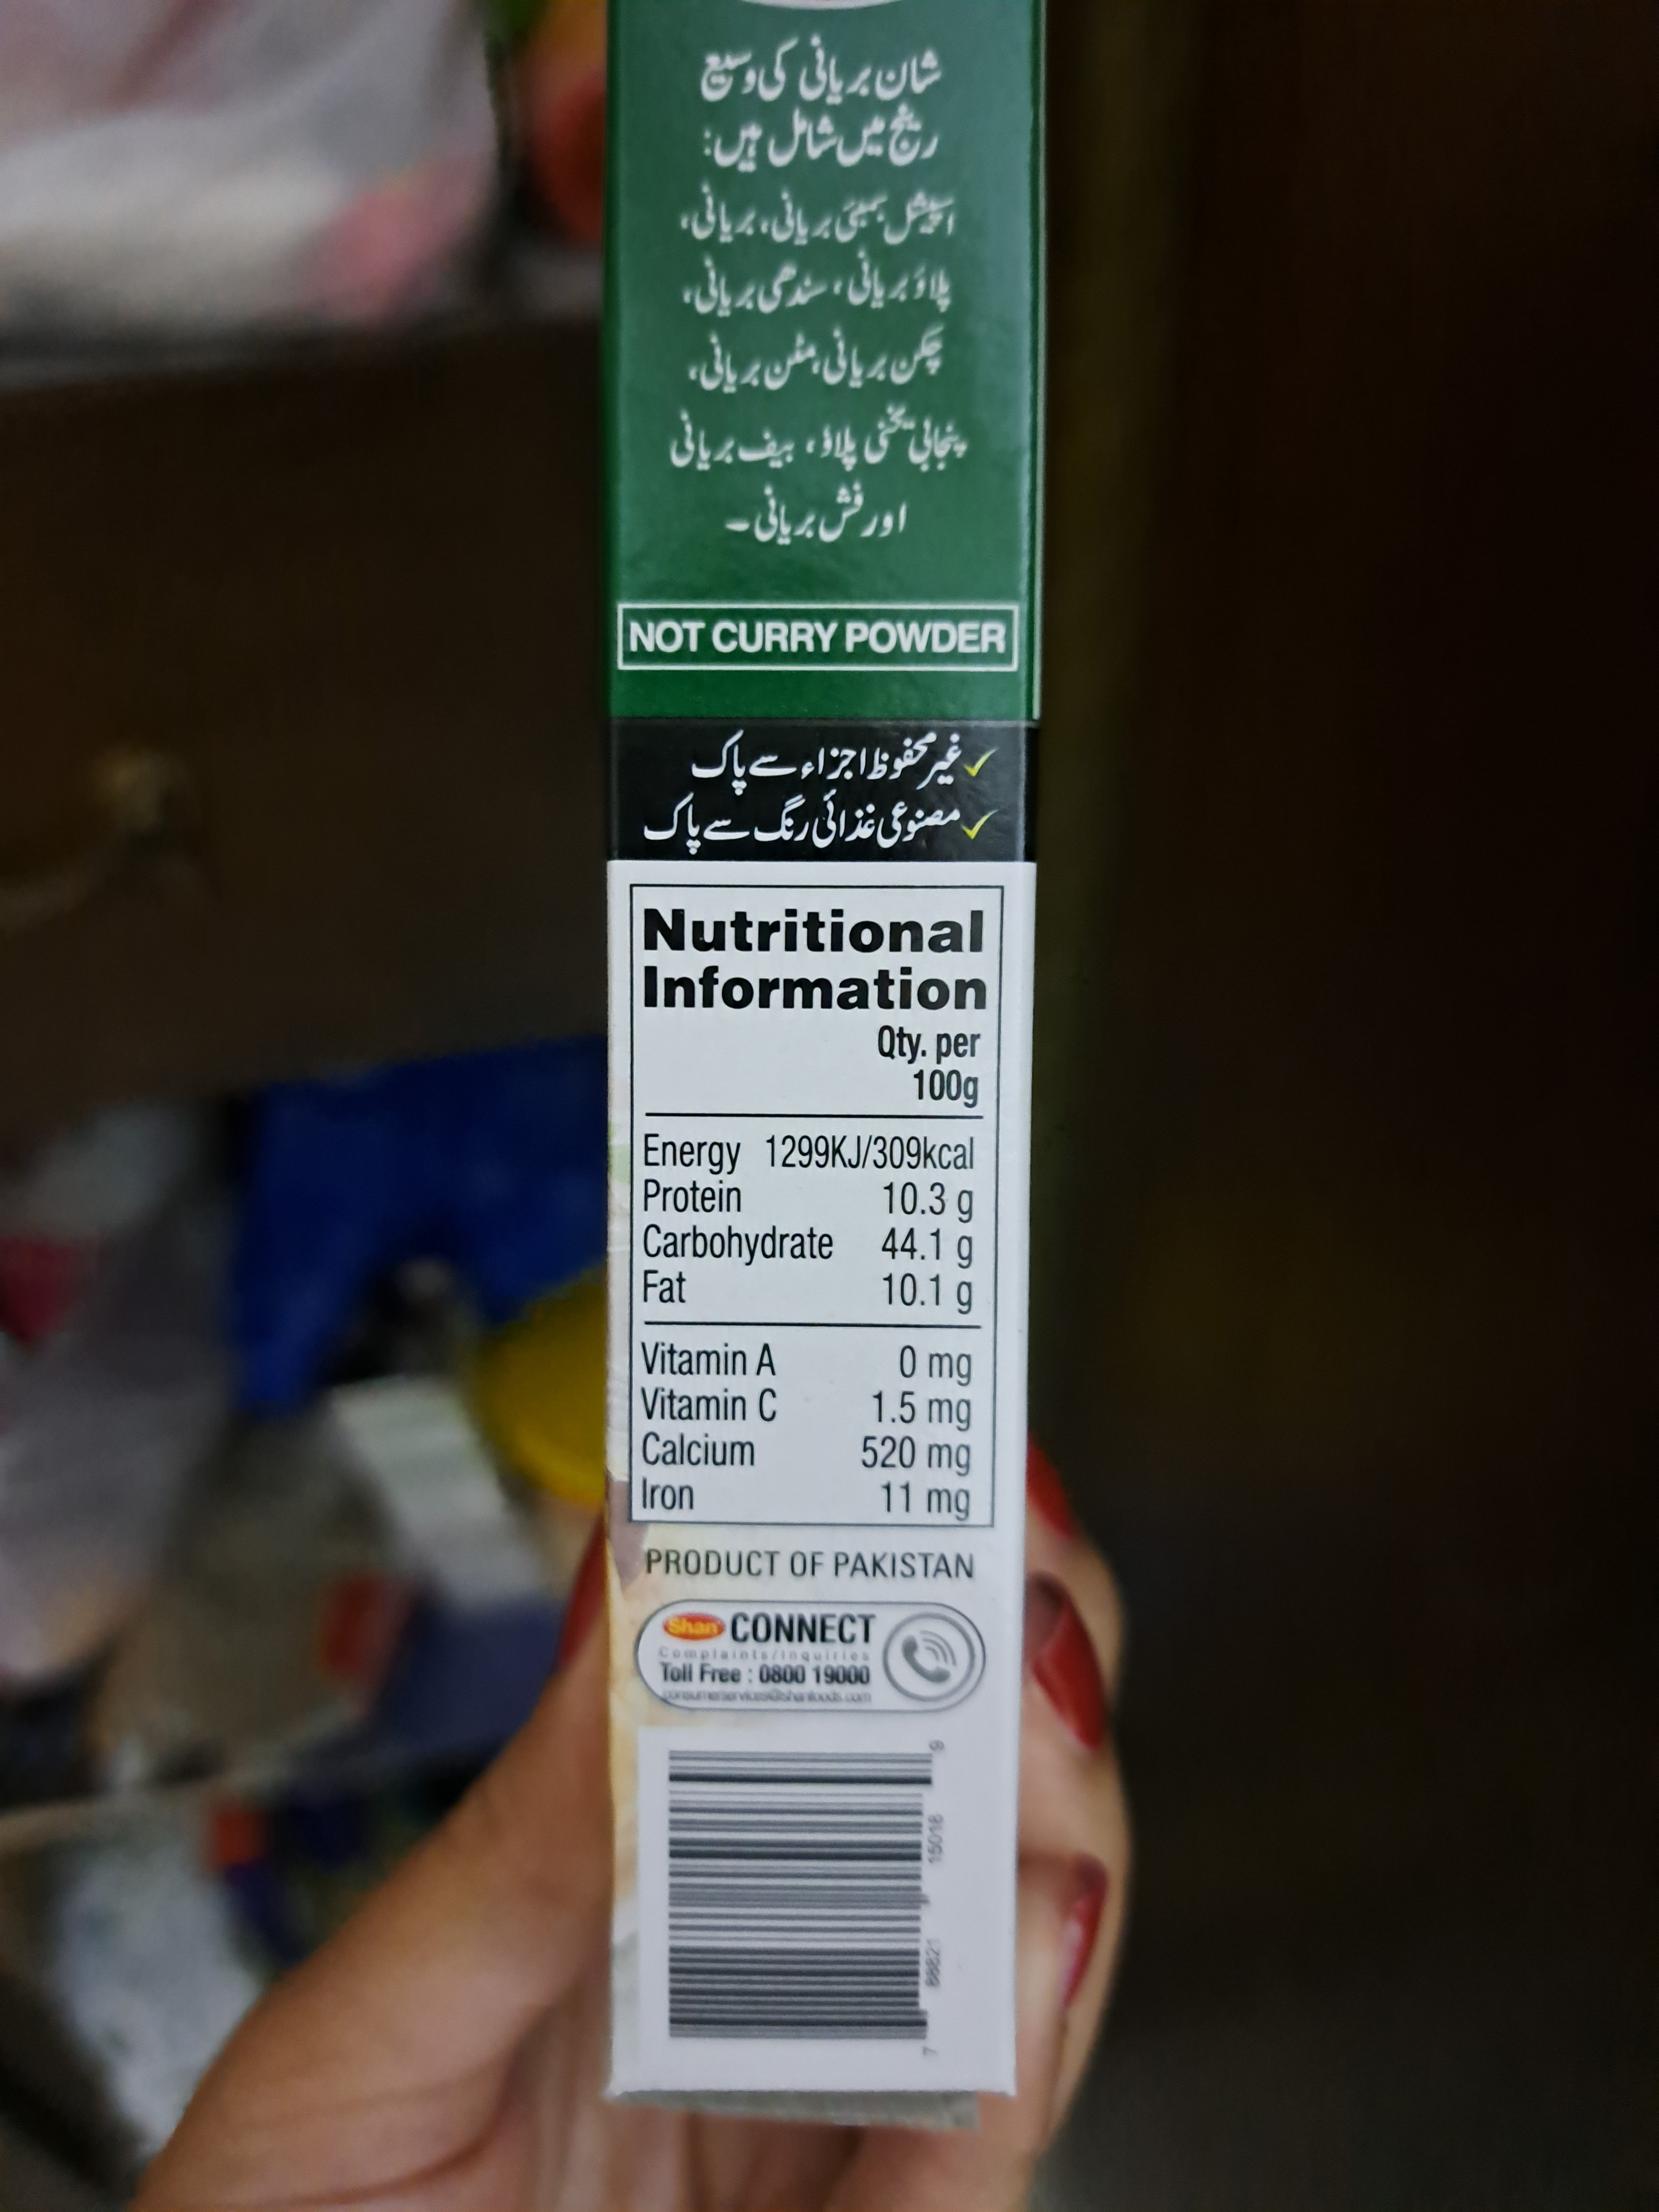table: (627, 880, 1004, 1529)
